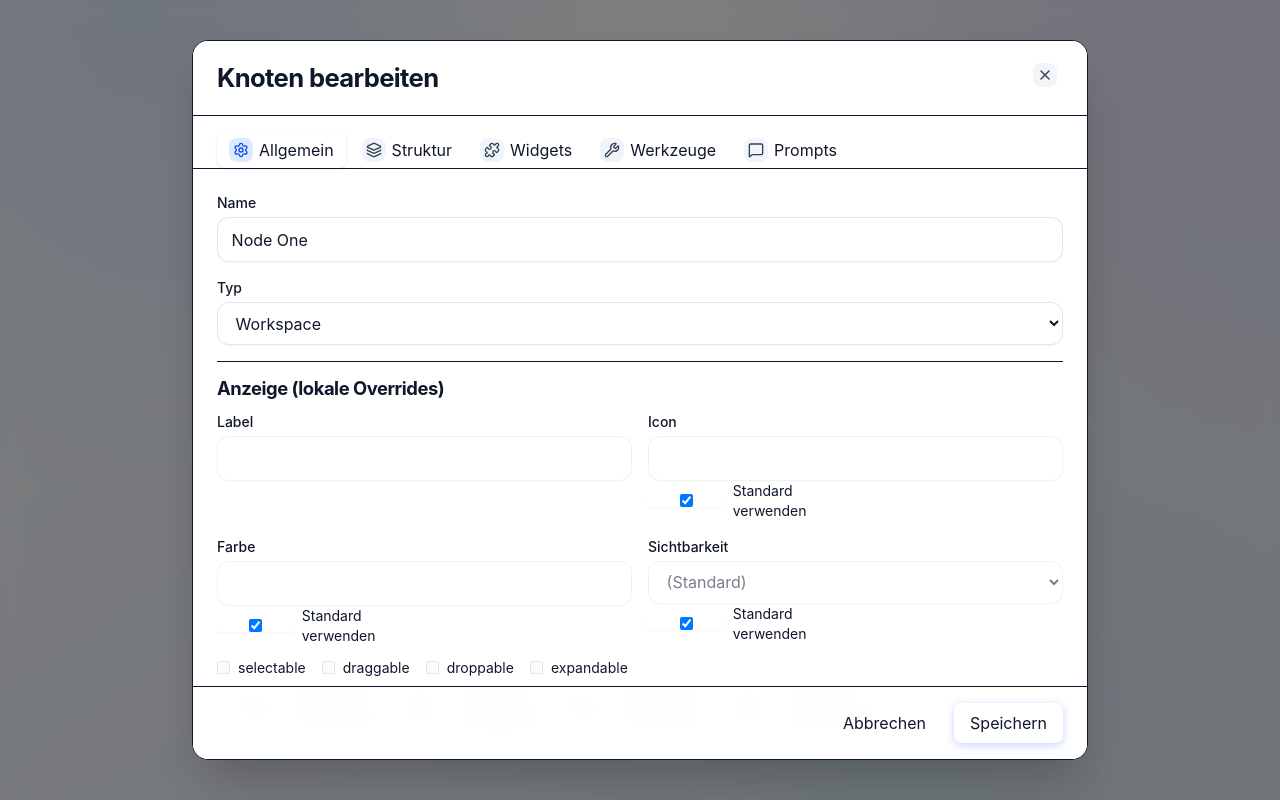
Scenario: NodeEditorDialog — Structure tab › displays structured backend type-change error nicely
What coordinates should you click on to do the following:
click the button "Speichern"
I would click on:
 (1009, 723)
Its box is top-left (954, 703), bottom-right (1063, 743).
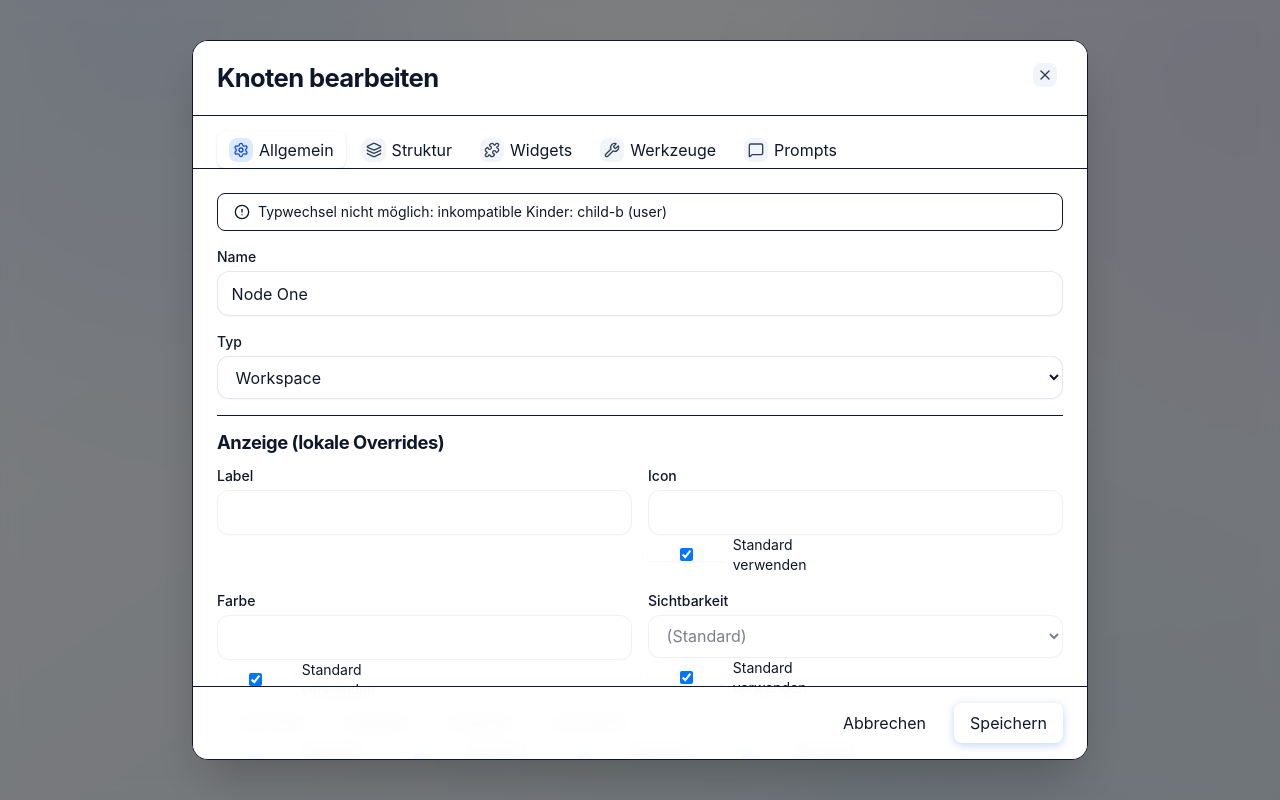
Result: the text "child-b" is shown at top-left (258, 203), bottom-right (667, 220)
